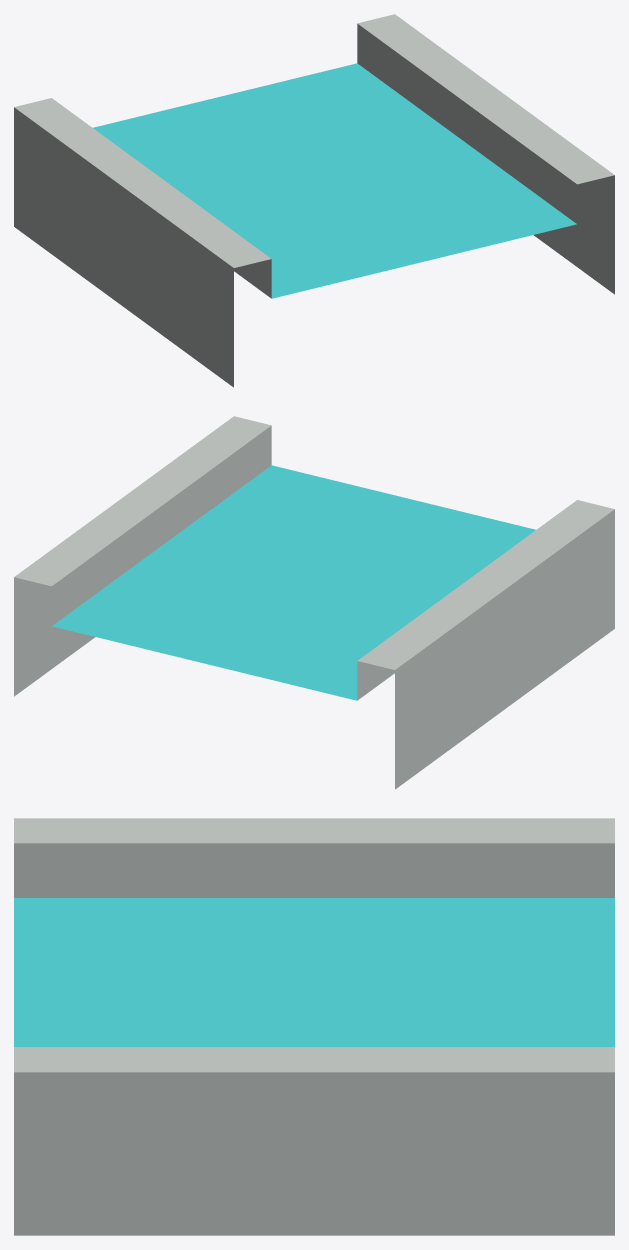
The model's file is Water_Ride_B.fbx.
3 views of the same model, one above another, from view 1: azimuth 30°, elevation 25°; view 2: azimuth 150°, elevation 25°; view 3: azimuth 270°, elevation 25° (orthographic). The views are drawn at different scales.
Visible parts, largest first — view 1: Water_Ride_B; view 2: Water_Ride_B; view 3: Water_Ride_B.
Boxes of the visible parts, x1=… form: Water_Ride_B: x1=14, y1=14, x2=614, y2=387; Water_Ride_B: x1=14, y1=416, x2=614, y2=789; Water_Ride_B: x1=14, y1=818, x2=614, y2=1235.
Bounding box in the file's own units: 400 × 120 × 400.
